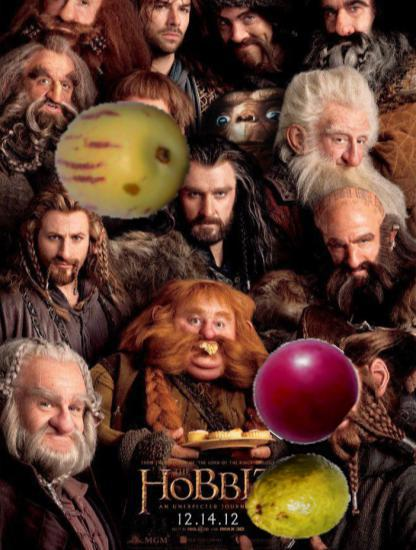Cherry: (251, 336, 360, 445)
Guava: (245, 443, 351, 549)
Pepino: (57, 93, 191, 227)
